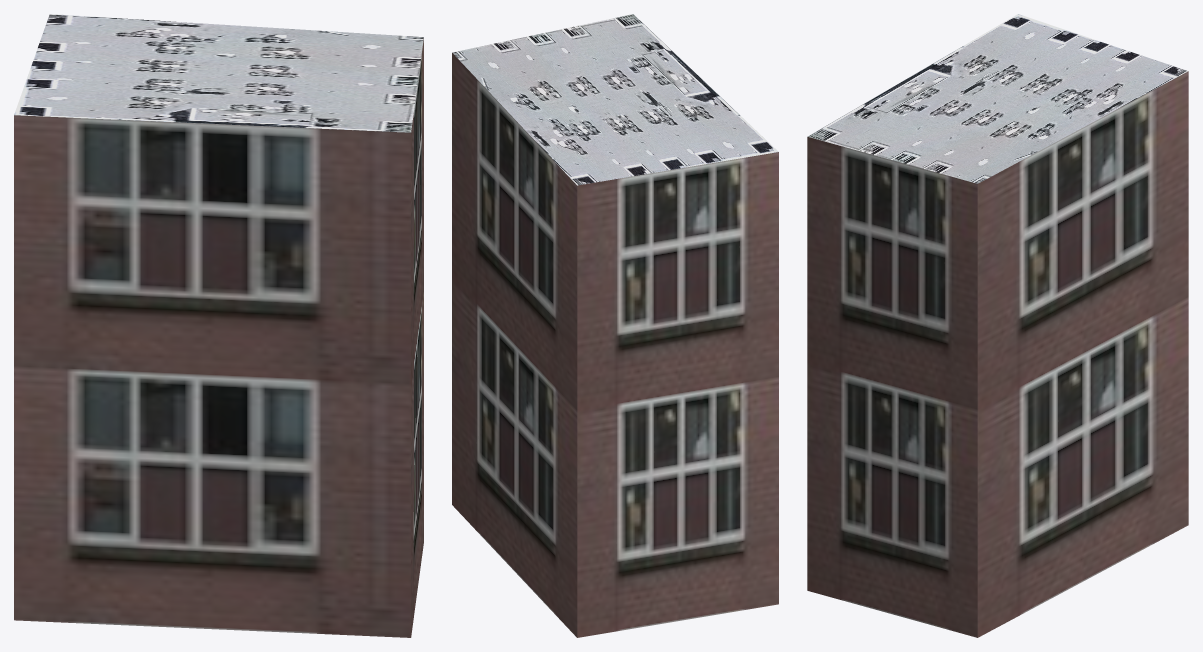
File: ResTex__3975.fbx
The picture shows the model from 3 angles, left to right: view 1: azimuth 30°, elevation 25°; view 2: azimuth 150°, elevation 25°; view 3: azimuth 270°, elevation 25°; orthographic projection. The views are drawn at different scales.
Visible parts, largest first — view 1: CityEngineMaterial_12_m, CityEngineMaterial_8_m; view 2: CityEngineMaterial_12_m, CityEngineMaterial_8_m; view 3: CityEngineMaterial_12_m, CityEngineMaterial_8_m.
Boxes of the visible parts, x1,y1,x2,y2 form: CityEngineMaterial_12_m: (14,38,423,637); CityEngineMaterial_8_m: (14,14,423,132); CityEngineMaterial_12_m: (452,53,778,637); CityEngineMaterial_8_m: (452,14,778,185); CityEngineMaterial_12_m: (807,71,1188,637); CityEngineMaterial_8_m: (807,14,1187,183).
Bounding box in the file's own units: 4.82 × 6 × 4.56.
Materials: 2 (2 with a texture image).
